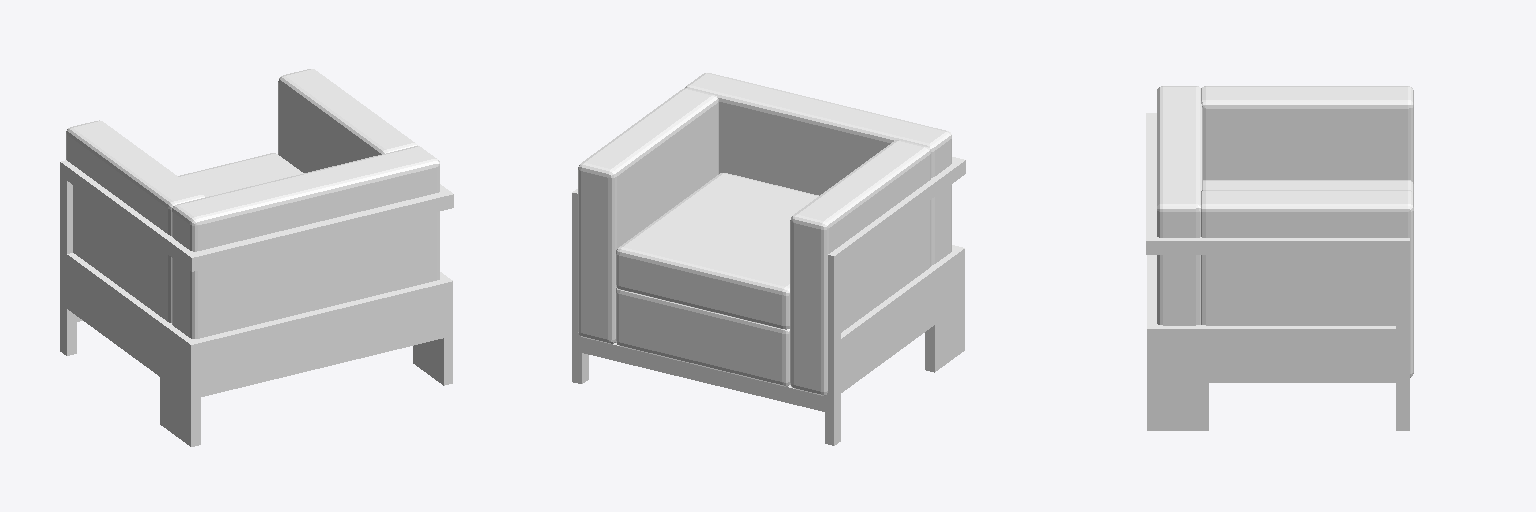
Rendered from armchair1.obj.
3 views of the same model, side by side, from view 1: azimuth 30°, elevation 25°; view 2: azimuth 150°, elevation 25°; view 3: azimuth 270°, elevation 25° (orthographic).
Parts seen in each view (by area): view 1: grp1, grp2; view 2: grp1, grp2; view 3: grp1, grp2.
Boxes of the visible parts, x1=… form: grp1: x1=66, y1=69, x2=439, y2=338; grp2: x1=60, y1=160, x2=453, y2=446; grp1: x1=578, y1=73, x2=951, y2=395; grp2: x1=572, y1=157, x2=965, y2=445; grp1: x1=1157, y1=86, x2=1413, y2=377; grp2: x1=1146, y1=113, x2=1409, y2=430.
Size of the model in its own units: 13.73 by 11.08 by 12.16.